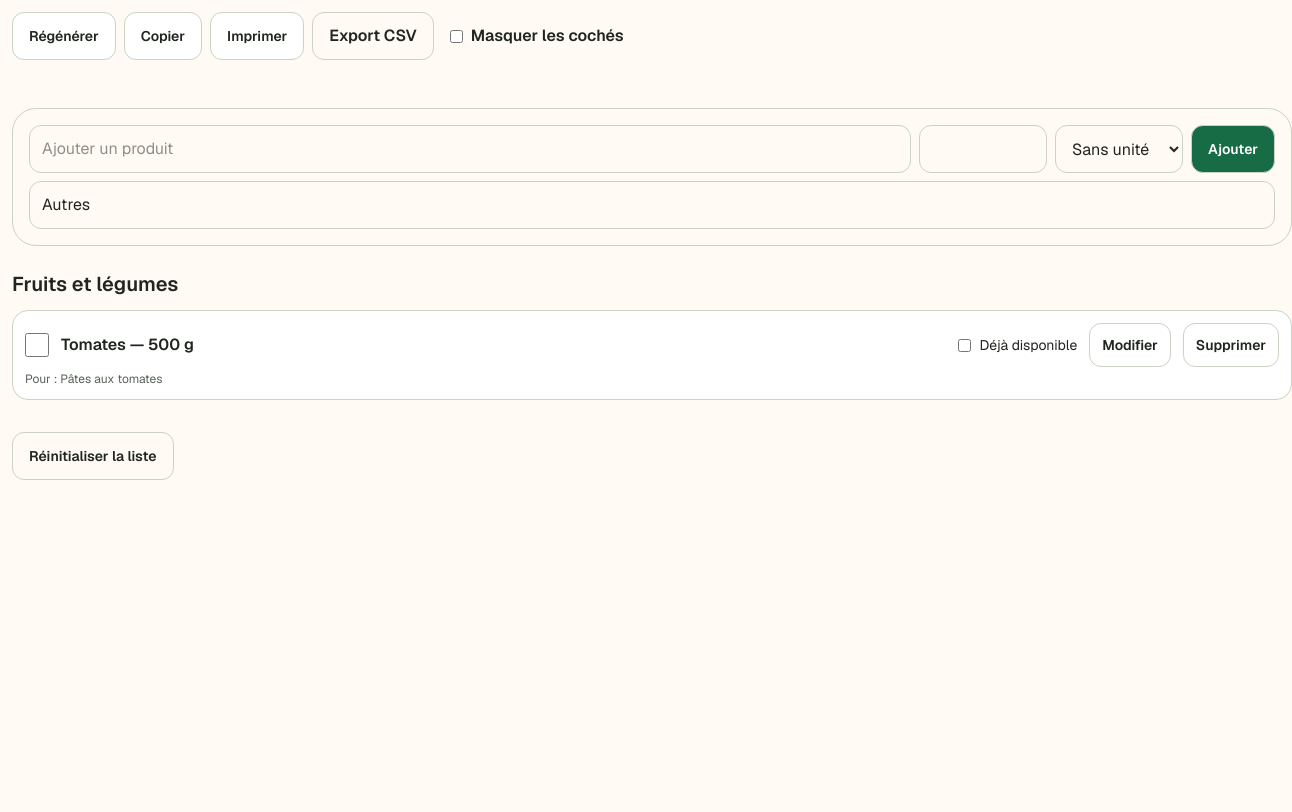
shopping list board › exposes touch-friendly list actions and an inline editor
Expected: the heading "Fruits et légumes" is shown, [12,271,178,297]
Expected: the checkbox labelled "Déjà disponible" is shown, [958,338,971,352]
Click the button "Modifier" at (1130, 345), box [1089,323,1171,367]
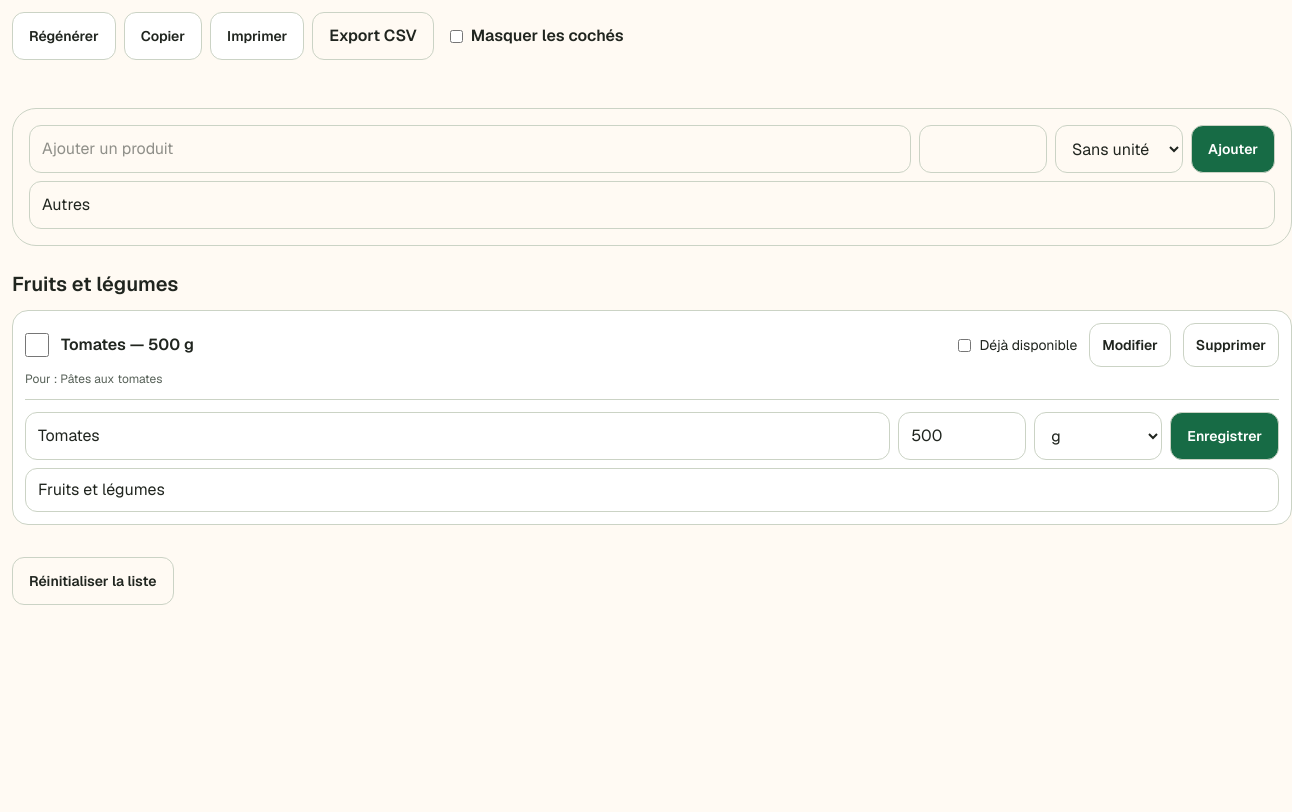
Expected: the form "Ajouter" is shown, [12,108,1291,246]
Expected: the number field named "Nouvelle quantité" is shown, [898,412,1026,460]
